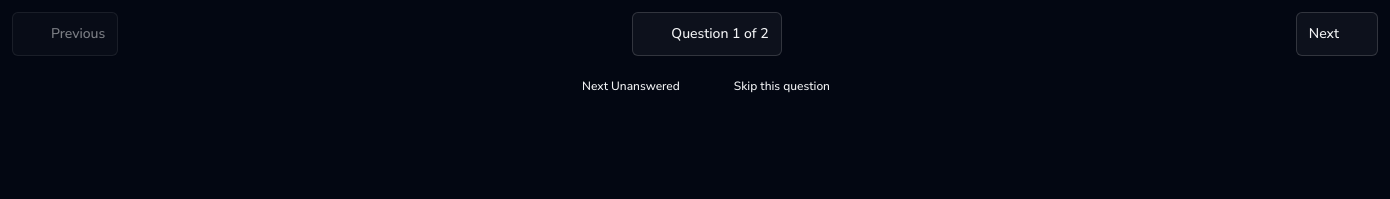
it: QuestionNavigation - dropdown and getQuestionTitle › getQuestionTitle adds ✓ prefix for completed questions
This screenshot has width=1390, height=199.
What coordinates should you click on to do the following:
click the button "Question 1 of 2"
I would click on:
 (707, 34)
Its box is [632, 12, 782, 56].
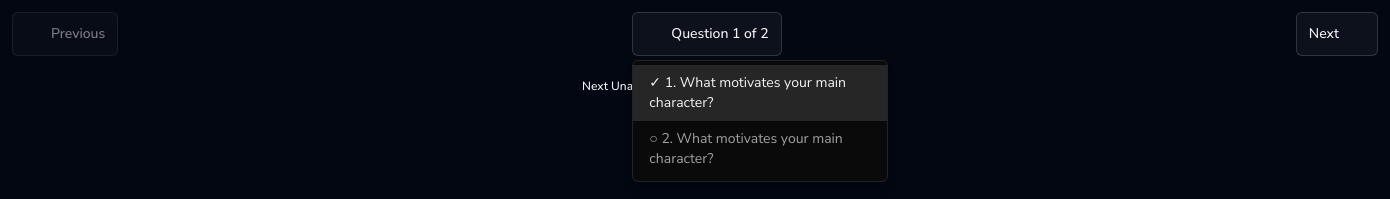
Result: the list item "✓ 1. What motivates your main character?" is shown at [633, 65, 887, 121]
